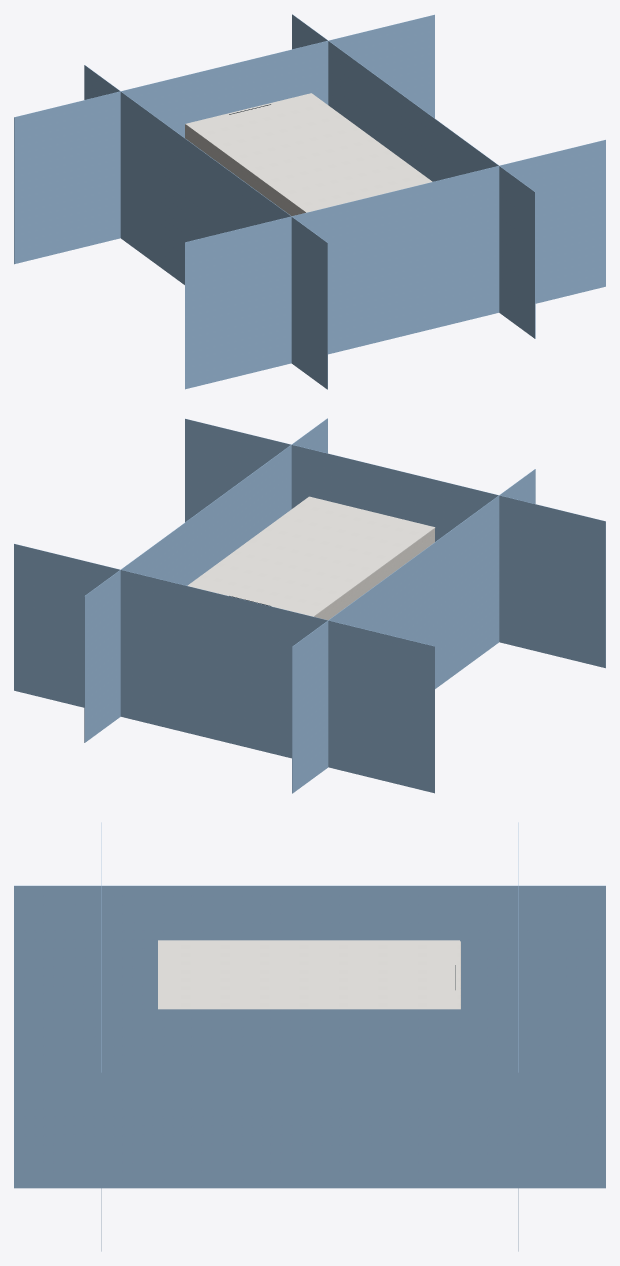
File: interior.glb
3 renders of one model, top to bottom at view 1: azimuth 30°, elevation 25°; view 2: azimuth 150°, elevation 25°; view 3: azimuth 270°, elevation 25°, orthographic. The views are drawn at different scales.
Parts seen in each view (by area): view 1: Sky_Front, Sky_Back, Sky_West, Sky_East, Ceiling, Walls_W_00; view 2: Sky_Back, Sky_Front, Sky_West, Ceiling, Sky_East, Walls_W_00; view 3: Sky_East, Sky_West, Ceiling.
Part boxes in pixels (left/top/right/bottom): Sky_Front: left=185, top=139, right=605, bottom=389; Sky_Back: left=14, top=14, right=434, bottom=264; Sky_West: left=84, top=65, right=327, bottom=389; Sky_East: left=292, top=14, right=535, bottom=338; Ceiling: left=185, top=93, right=432, bottom=212; Walls_W_00: left=185, top=125, right=305, bottom=216; Sky_Back: left=14, top=543, right=434, bottom=793; Sky_Front: left=185, top=418, right=605, bottom=668; Sky_West: left=292, top=469, right=535, bottom=793; Ceiling: left=187, top=496, right=435, bottom=616; Sky_East: left=84, top=418, right=327, bottom=742; Walls_W_00: left=314, top=529, right=434, bottom=620; Sky_East: left=14, top=1009, right=605, bottom=1188; Sky_West: left=14, top=885, right=605, bottom=1009; Ceiling: left=158, top=940, right=459, bottom=1009.
Bounding box in the file's own units: 60 × 20 × 60.
Materials: 25 (19 with a texture image).
